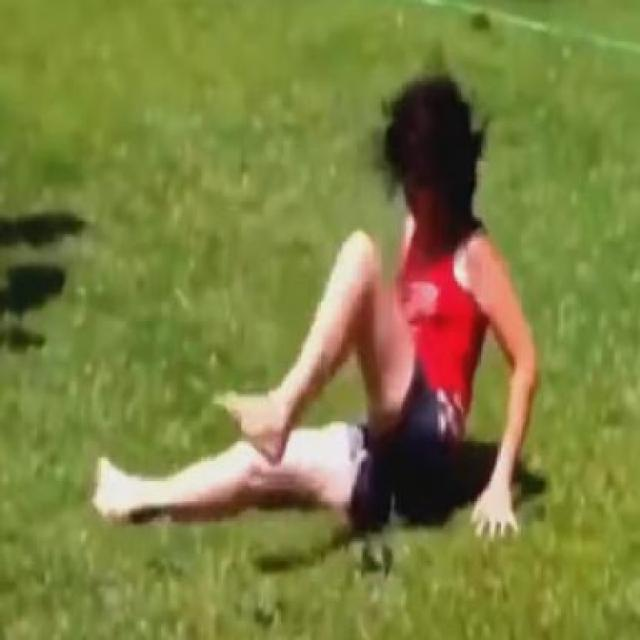fall: (87, 73, 531, 549)
